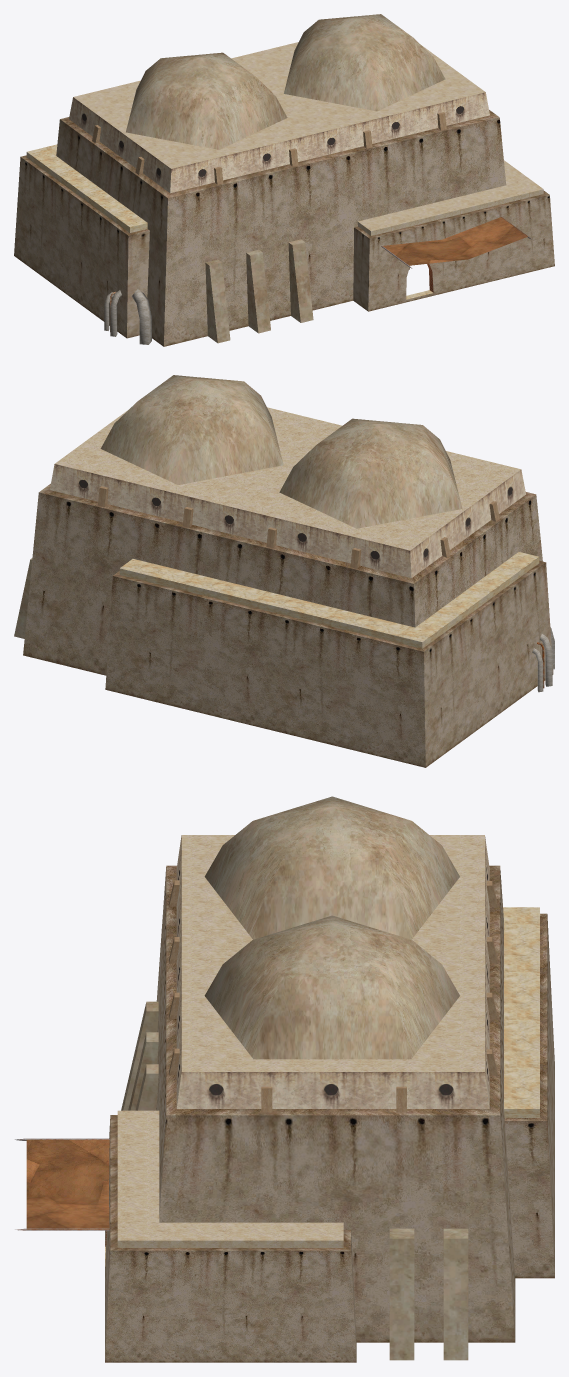
Rendered from thm_tato_imprv_building_s03_r0_mesh_l2.fbx.
3 renders of one model, top to bottom at view 1: azimuth 30°, elevation 25°; view 2: azimuth 150°, elevation 25°; view 3: azimuth 270°, elevation 25°, orthographic. The views are drawn at different scales.
Visible parts, largest first — view 1: mesh_node; view 2: mesh_node; view 3: mesh_node.
Boxes of the visible parts, x1,y1,x2,y2 form: mesh_node: (14, 14, 554, 346); mesh_node: (14, 375, 554, 767); mesh_node: (15, 796, 554, 1362).
Size of the model in its own units: 32.28 by 17.22 by 24.3.
